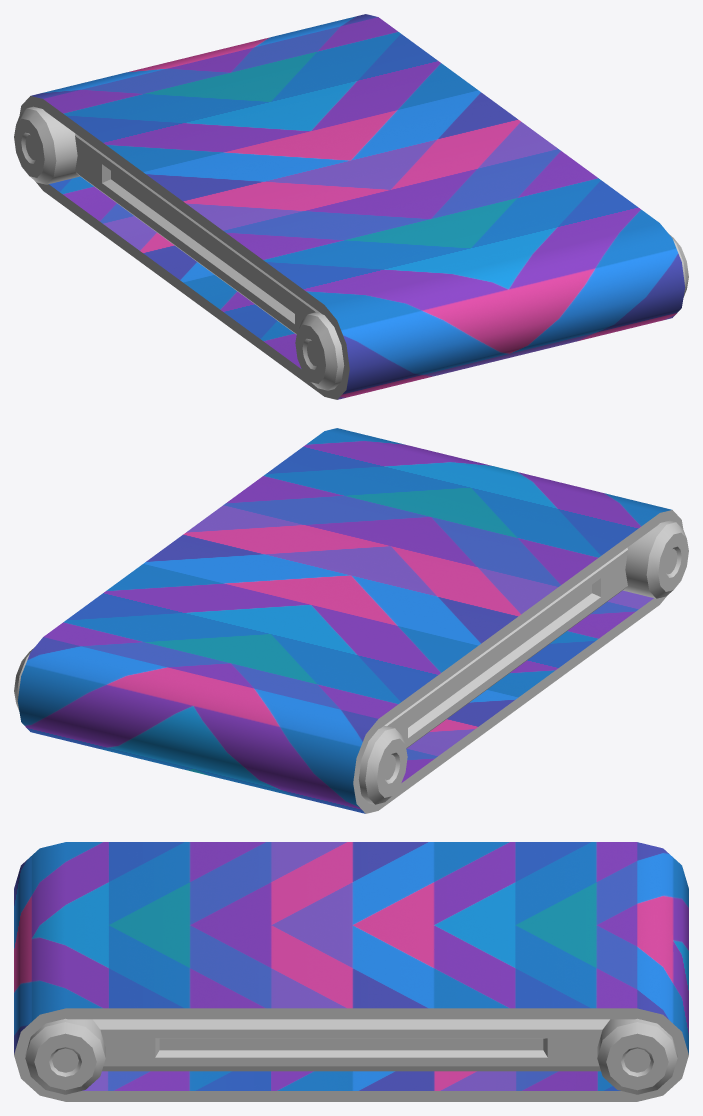
The model's file is obstacle_9_001.fbx.
3 renders of one model, top to bottom at view 1: azimuth 30°, elevation 25°; view 2: azimuth 150°, elevation 25°; view 3: azimuth 270°, elevation 25°, orthographic.
Parts seen in each view (by area): view 1: obstacle_9_001; view 2: obstacle_9_001; view 3: obstacle_9_001.
Boxes of the visible parts, box(x1,y1,x2,y2) form: obstacle_9_001: box(14, 14, 688, 399); obstacle_9_001: box(14, 428, 688, 813); obstacle_9_001: box(14, 842, 688, 1101).
Size of the model in its own units: 415 by 658 by 100.
